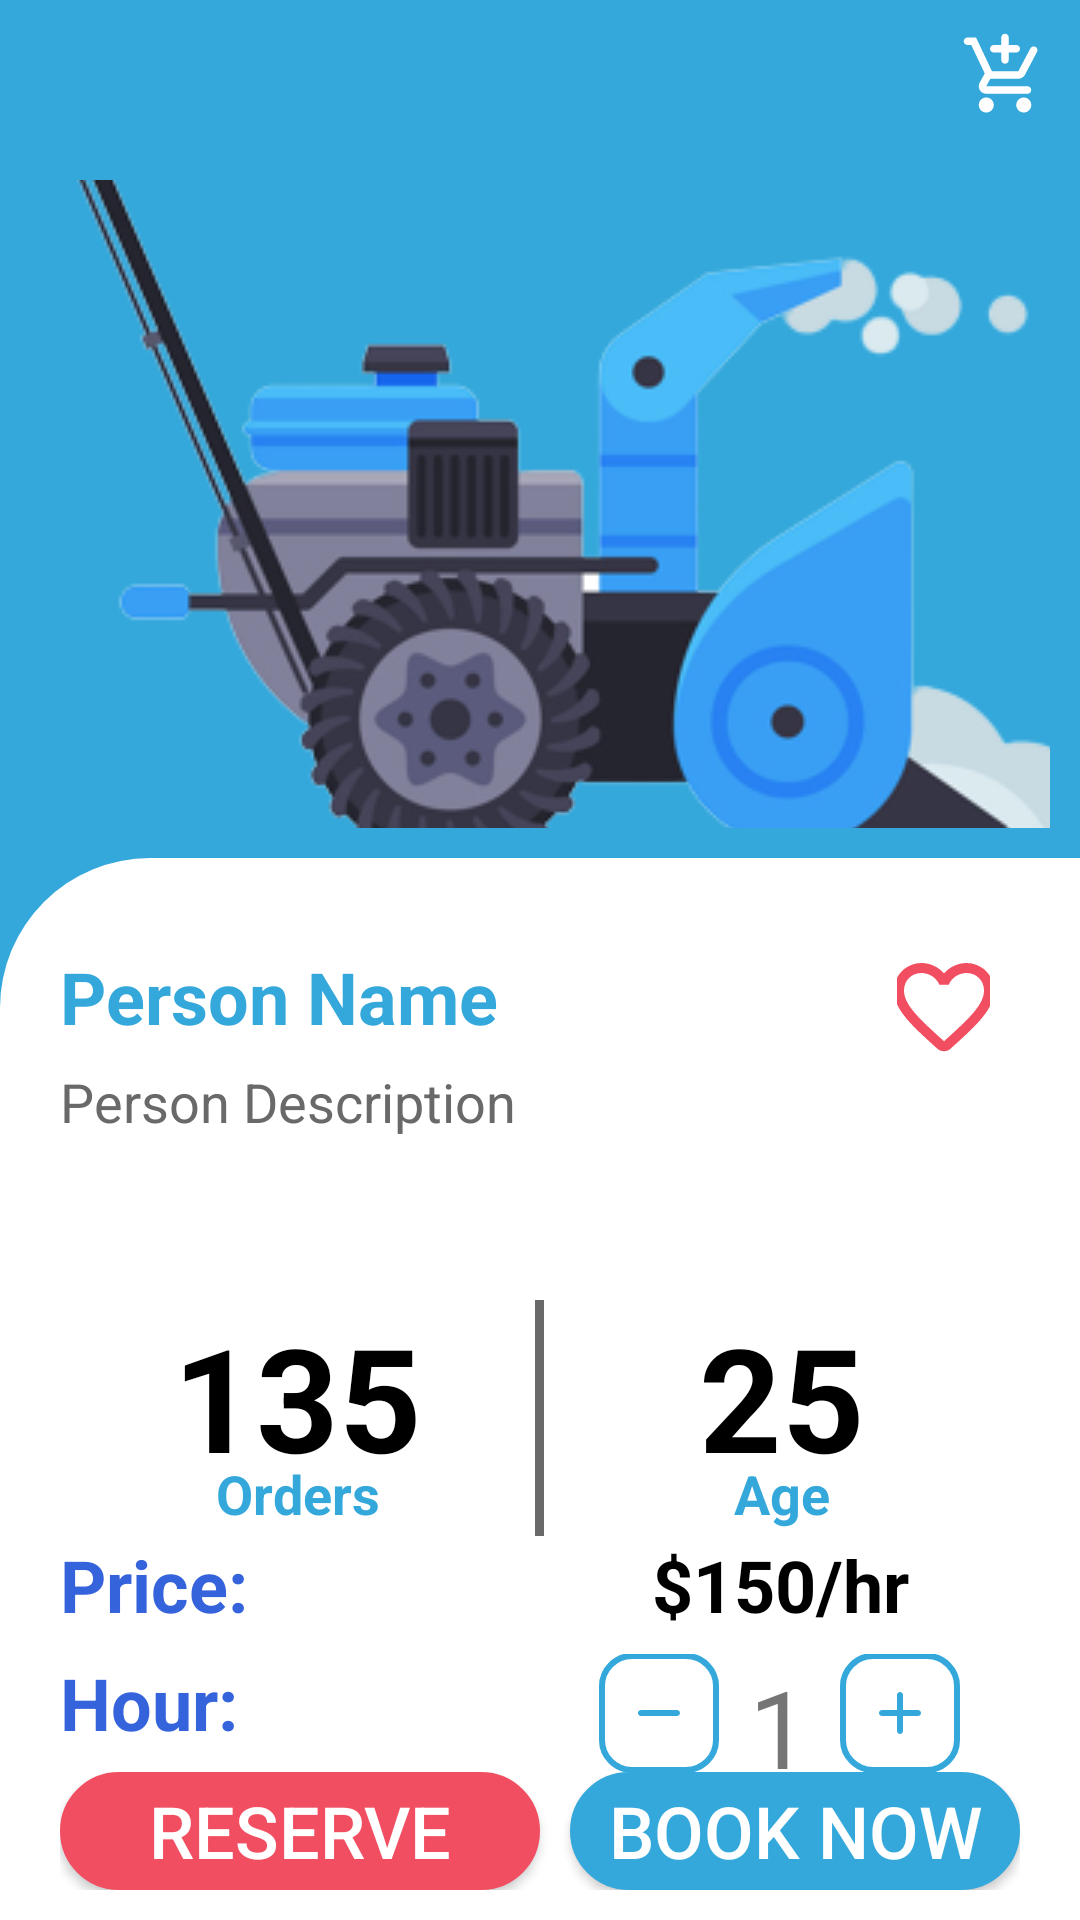

Icon bounding boxes for this 1080x1920 phone screenshot, format (x1, y1, x2, y2):
add: (840, 1654, 960, 1772)
add shopping cart: (963, 33, 1038, 113)
favorite border: (897, 963, 990, 1052)
remove: (599, 1654, 719, 1772)
